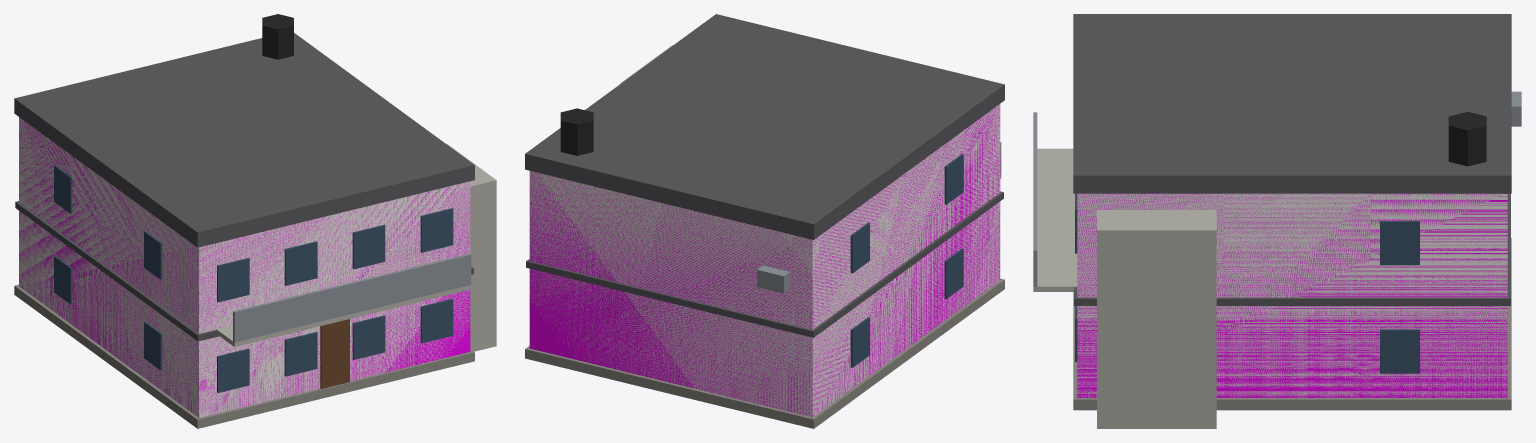
The model's file is Apartment_2S_01.glb.
3 views of the same model, side by side, from view 1: azimuth 30°, elevation 25°; view 2: azimuth 150°, elevation 25°; view 3: azimuth 270°, elevation 25° (orthographic). The views are drawn at different scales.
Visible parts, largest first — view 1: Apartment_2S_01, Apartment_2S_01_COL; view 2: Apartment_2S_01, Apartment_2S_01_COL; view 3: Apartment_2S_01, Apartment_2S_01_COL.
Part boxes in pixels (x1=…): Apartment_2S_01: x1=14, y1=14, x2=496, y2=428; Apartment_2S_01_COL: x1=19, y1=118, x2=470, y2=417; Apartment_2S_01: x1=525, y1=14, x2=1004, y2=428; Apartment_2S_01_COL: x1=529, y1=104, x2=1000, y2=416; Apartment_2S_01: x1=1033, y1=14, x2=1521, y2=428; Apartment_2S_01_COL: x1=1077, y1=193, x2=1507, y2=397.
Bounding box in the file's own units: 10.7 × 7.5 × 12.25.
